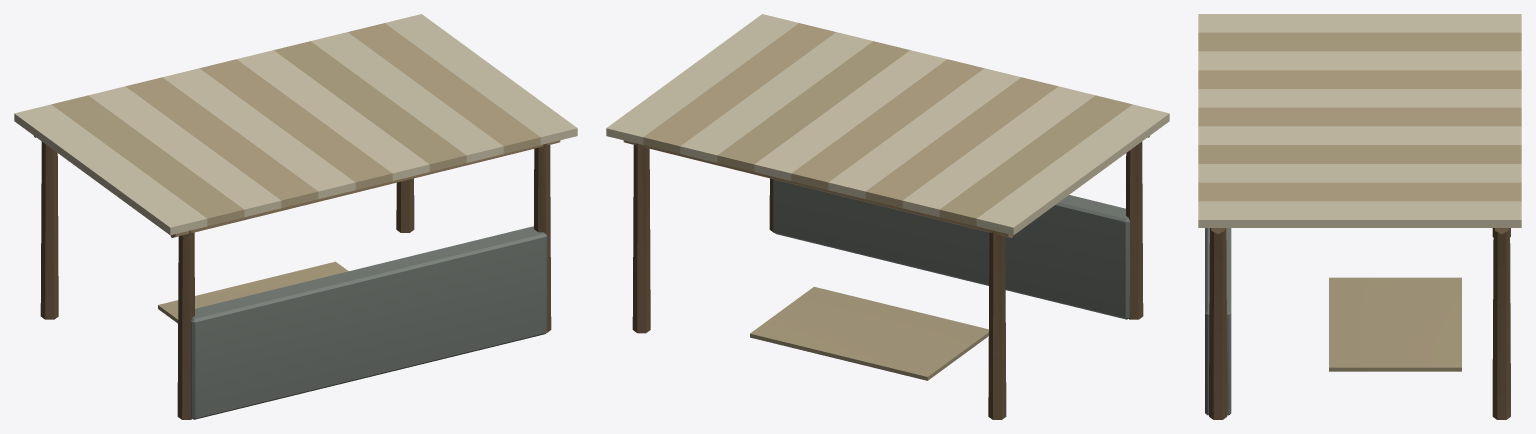
The model's file is farm_shelter.glb.
3 renders of one model, left to right at view 1: azimuth 30°, elevation 25°; view 2: azimuth 150°, elevation 25°; view 3: azimuth 270°, elevation 25°, orthographic. The views are drawn at different scales.
Parts seen in each view (by area): view 1: farm_shelter; view 2: farm_shelter; view 3: farm_shelter.
Part boxes in pixels (x1,y1,x2,y2): farm_shelter: (14, 14, 577, 419); farm_shelter: (606, 14, 1169, 419); farm_shelter: (1198, 14, 1521, 419).
Size of the model in its own units: 5.5 by 2.61 by 3.65.
